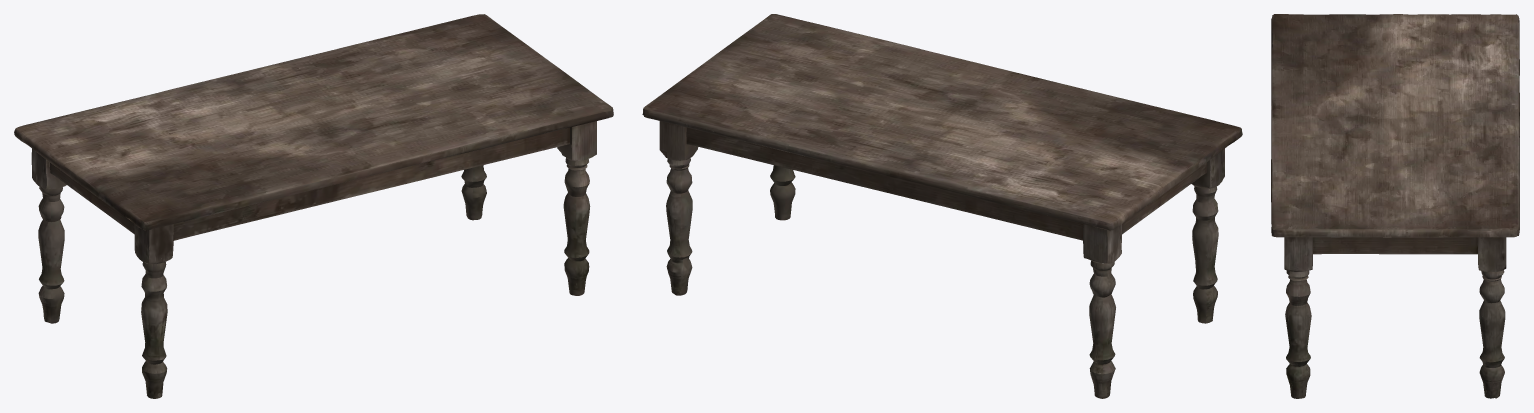
The model's file is table.glb.
3 renders of one model, left to right at view 1: azimuth 30°, elevation 25°; view 2: azimuth 150°, elevation 25°; view 3: azimuth 270°, elevation 25°, orthographic. The views are drawn at different scales.
Visible parts, largest first — view 1: Mesh_0; view 2: Mesh_0; view 3: Mesh_0.
Boxes of the visible parts, box(x1,y1,x2,y2) form: Mesh_0: box(14, 14, 613, 398); Mesh_0: box(642, 14, 1242, 398); Mesh_0: box(1271, 14, 1519, 398).
Size of the model in its own units: 1.9 by 0.7303 by 0.9212.
Materials: 1 (1 with a texture image).
